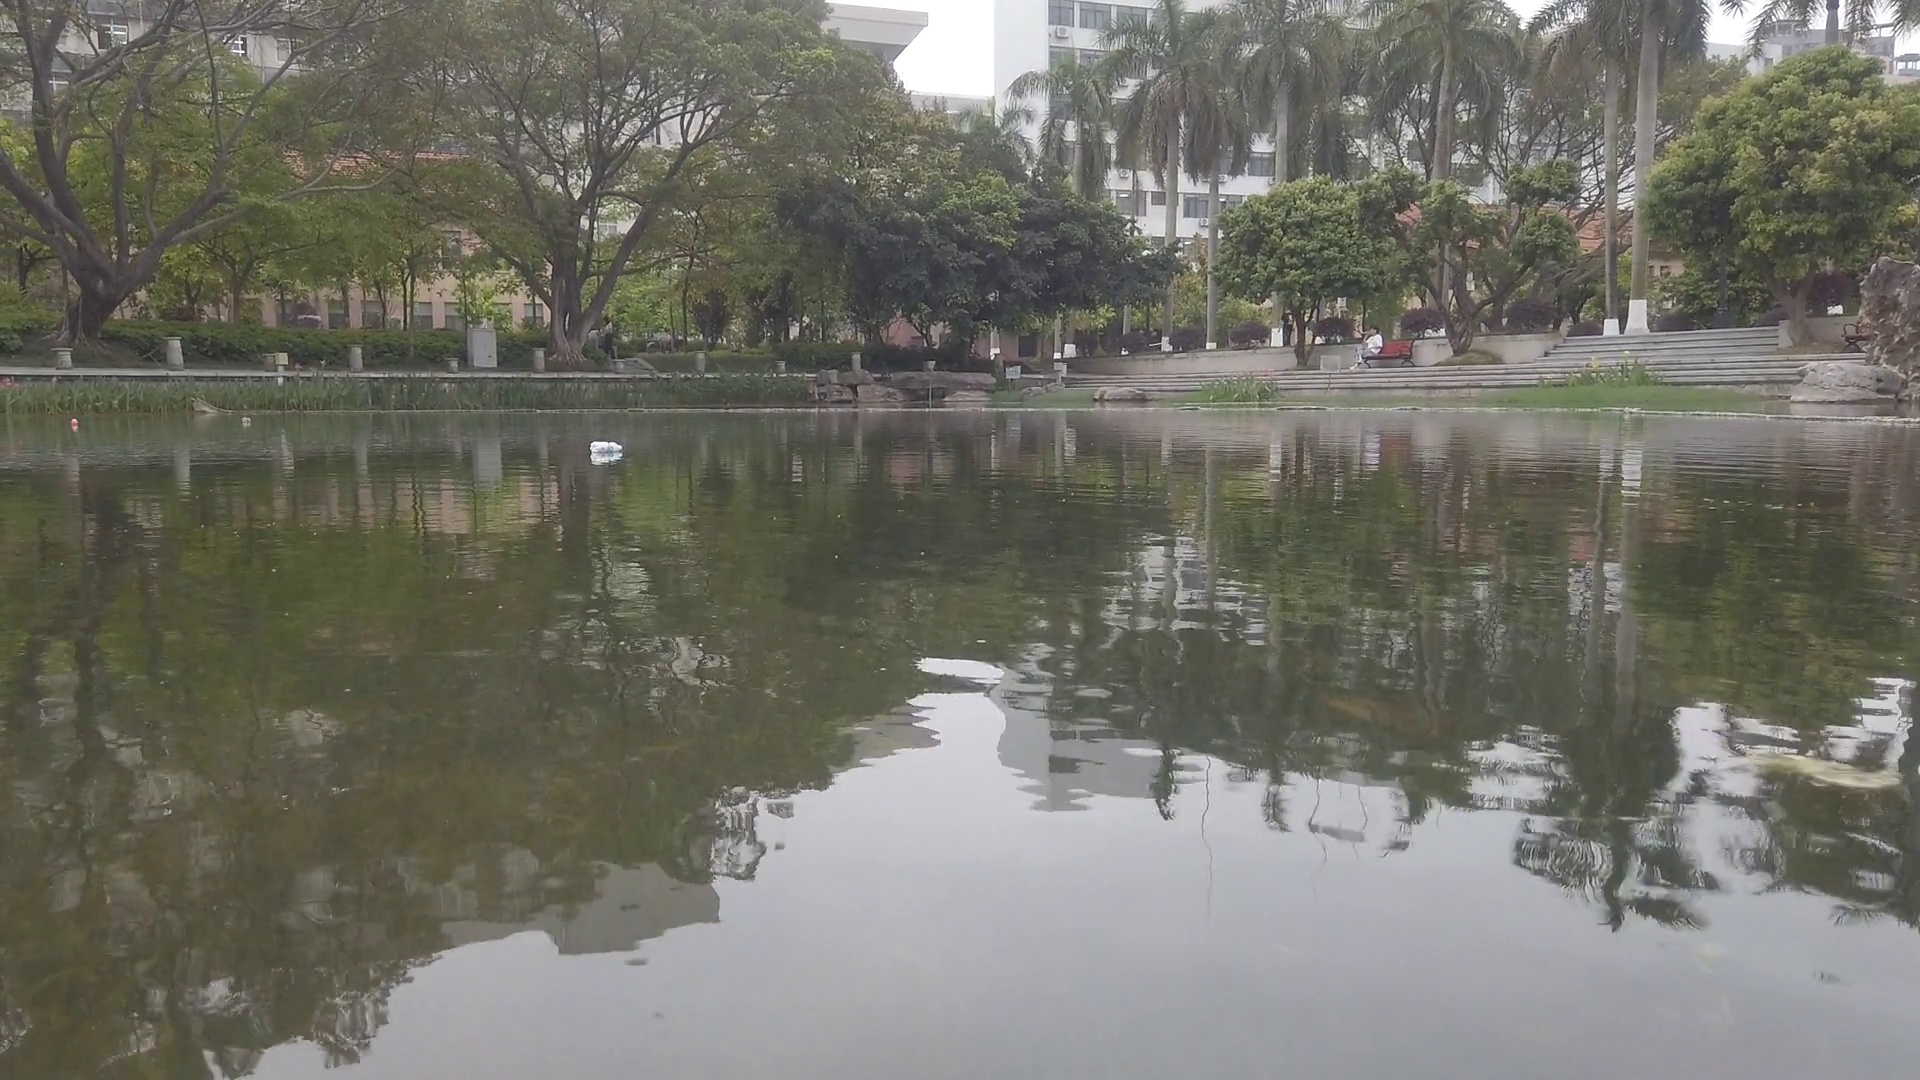bottle: (587, 440, 626, 455), (241, 415, 255, 429), (71, 417, 76, 427)
